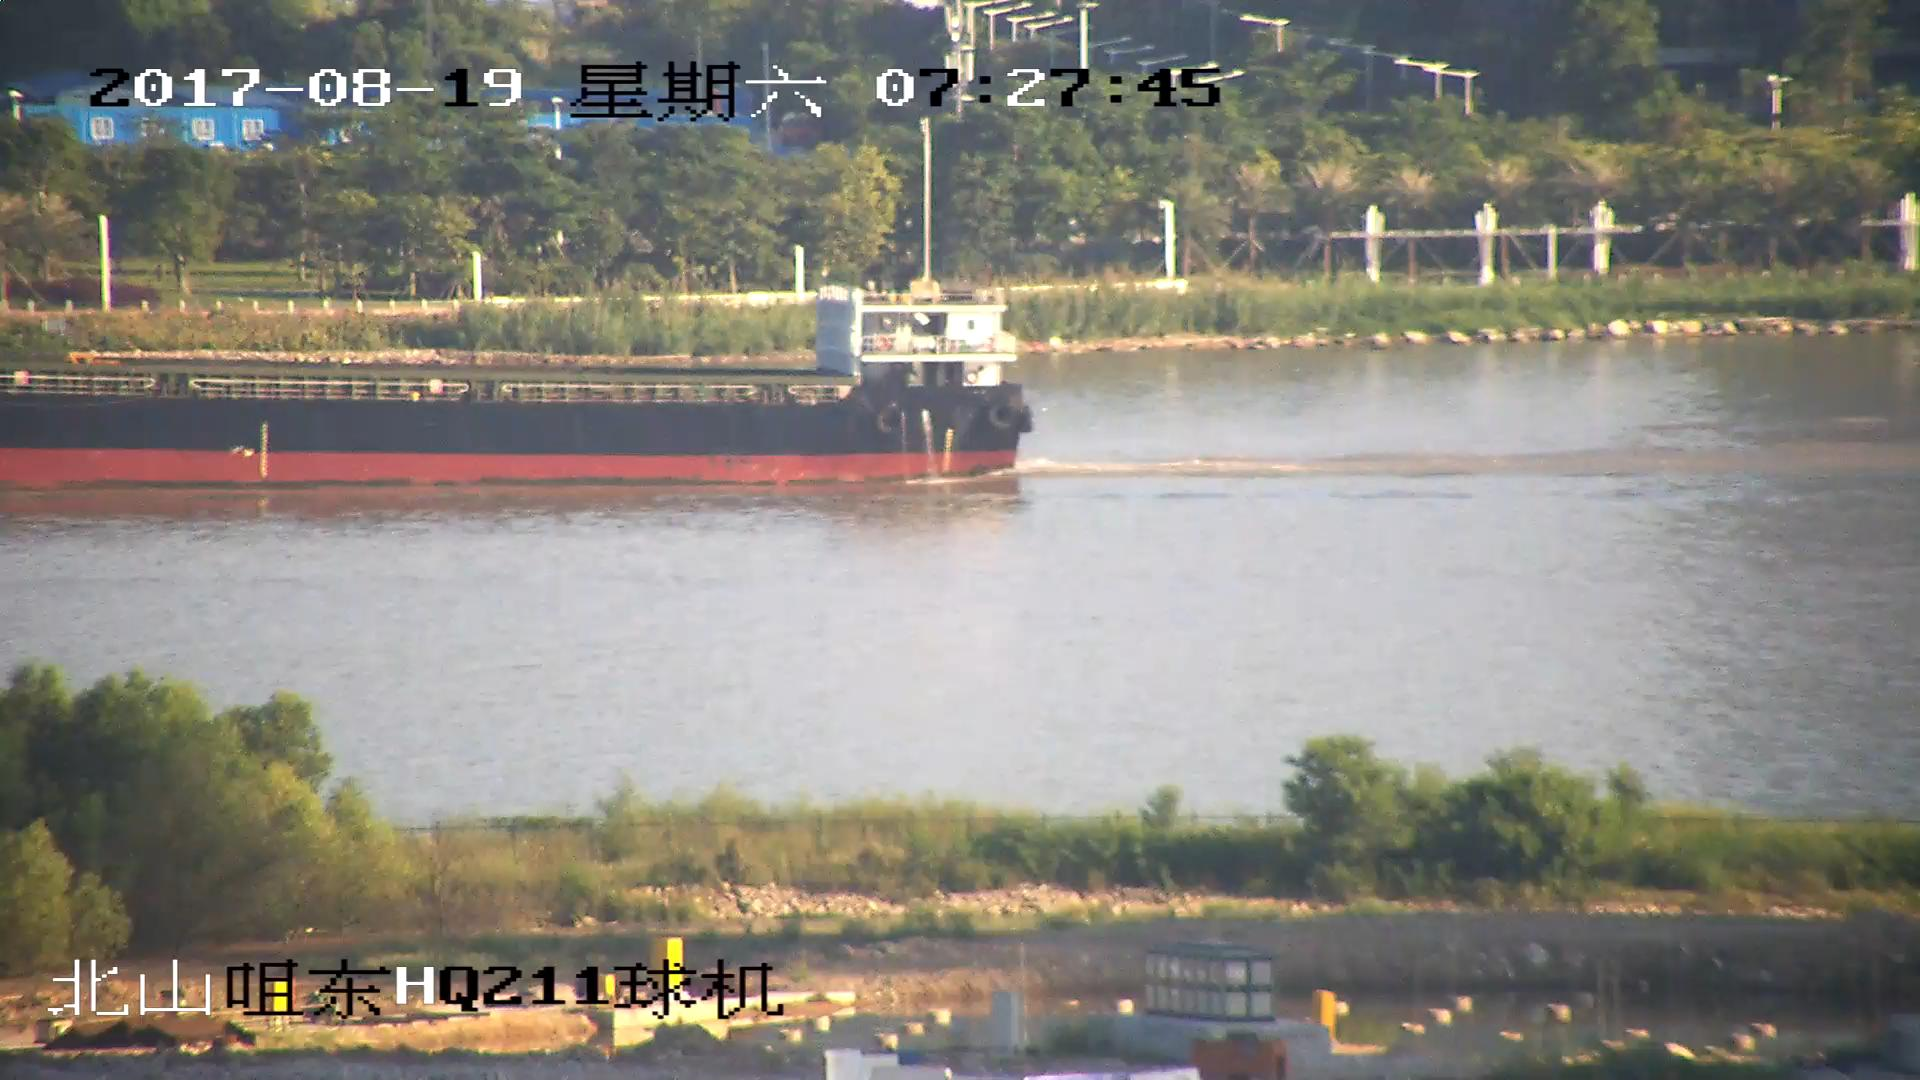general cargo ship: (1, 123, 1039, 492)
